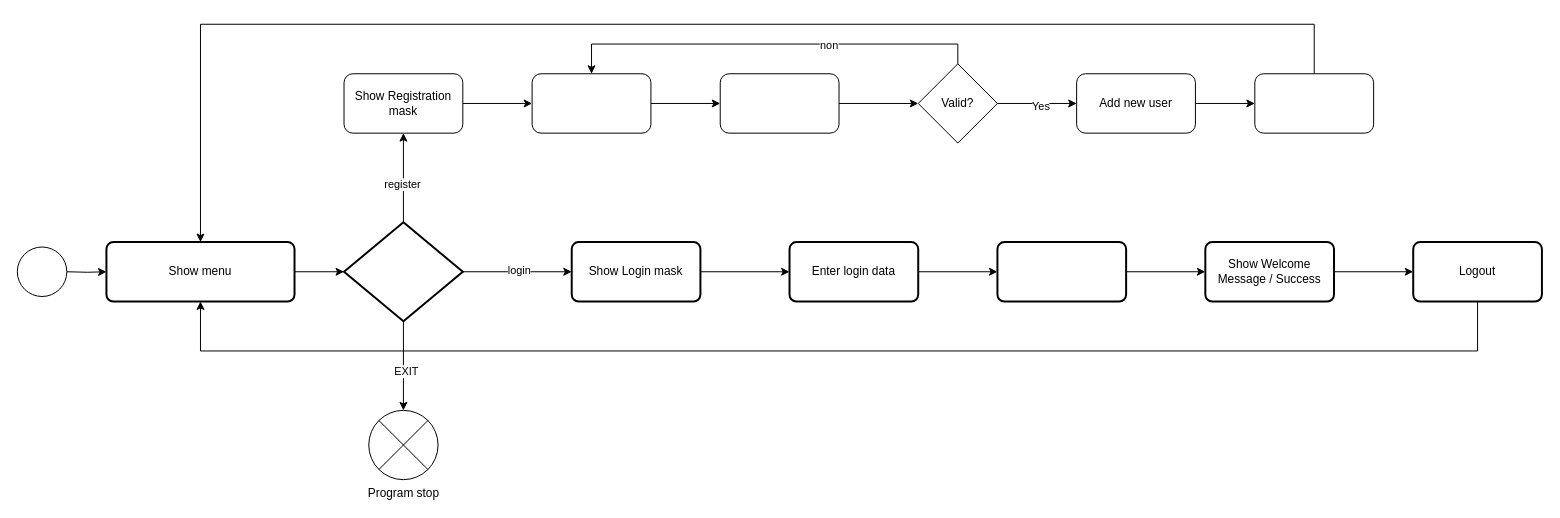
Image size: 1560x518. Some labels were removed from this diagram. Here are the shapes that lost their labels. From the top down, the box of each, then its label:
(531, 73, 651, 133): Enter data
(719, 73, 839, 133): Validate data
(1254, 73, 1374, 133): Send welcome mail
(343, 221, 463, 322): Register Login Exit
(996, 241, 1127, 302): Validate data with internal database
